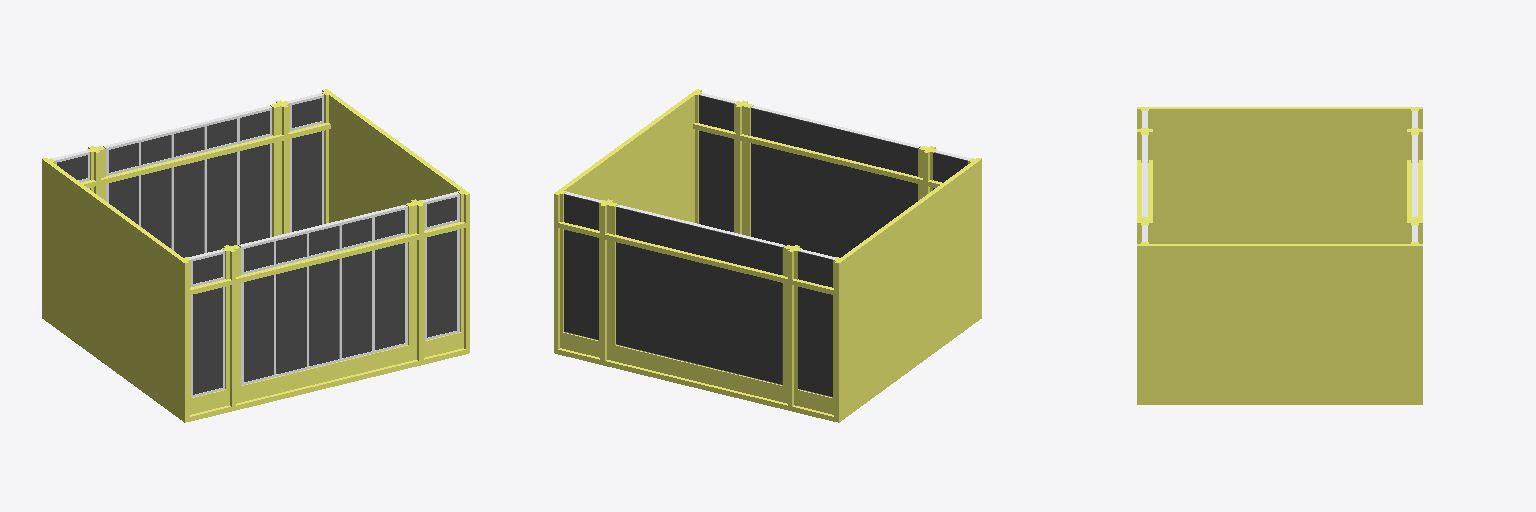
File: nhatang1.obj
The picture shows the model from 3 angles: view 1: azimuth 30°, elevation 25°; view 2: azimuth 150°, elevation 25°; view 3: azimuth 270°, elevation 25°; orthographic projection.
Visible parts, largest first — view 1: obj66, obj65, obj7, obj28, obj14, obj21, obj56, obj49, obj35, obj42, obj115, obj122 (+19 smaller); view 2: obj66, obj65, obj87, obj122, obj80, obj115, obj73, obj108, obj94, obj56, obj101, obj49 (+19 smaller); view 3: obj65, obj66, obj4, obj70, obj5, obj71.
Part boxes in pixels (x1,y1,x2,y2): obj66: (46, 161, 183, 419); obj65: (328, 92, 465, 221); obj7: (190, 332, 463, 414); obj28: (276, 234, 306, 373); obj14: (193, 254, 222, 394); obj21: (238, 242, 273, 381); obj56: (427, 197, 456, 337); obj49: (375, 210, 404, 349); obj35: (309, 226, 338, 365); obj42: (342, 218, 371, 357); obj115: (240, 111, 269, 244); obj122: (292, 98, 321, 231); obj66: (839, 161, 977, 419); obj65: (558, 92, 696, 221); obj87: (747, 239, 783, 384); obj122: (564, 194, 598, 339); obj80: (798, 251, 832, 396); obj115: (616, 207, 650, 352); obj73: (560, 332, 833, 414); obj108: (649, 215, 683, 359); obj94: (714, 231, 749, 375); obj56: (699, 95, 733, 231); obj101: (682, 223, 716, 368); obj49: (751, 108, 786, 245); obj65: (1145, 244, 1414, 404); obj66: (1145, 107, 1414, 243); obj4: (1137, 244, 1152, 404); obj70: (1407, 244, 1422, 404); obj5: (1137, 160, 1152, 220); obj71: (1407, 160, 1422, 220).
Size of the model in its own units: 30.5 by 16.27 by 26.5.